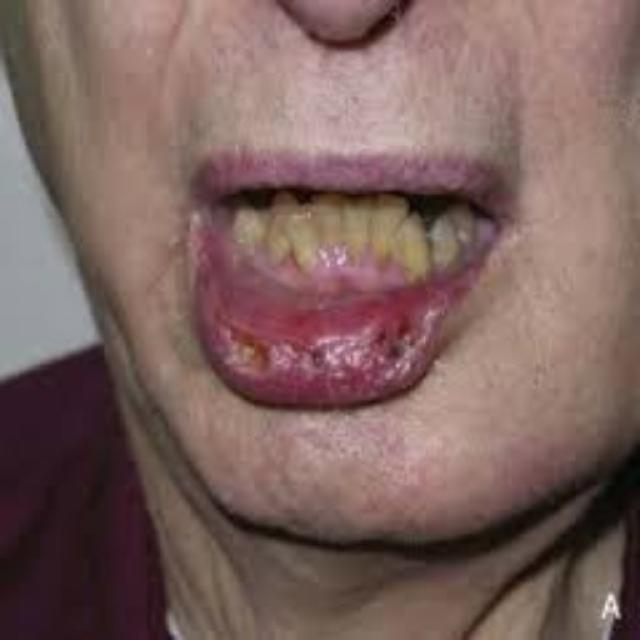cancer-detection: (199, 291, 438, 405)
processing_area: (197, 214, 490, 413)
